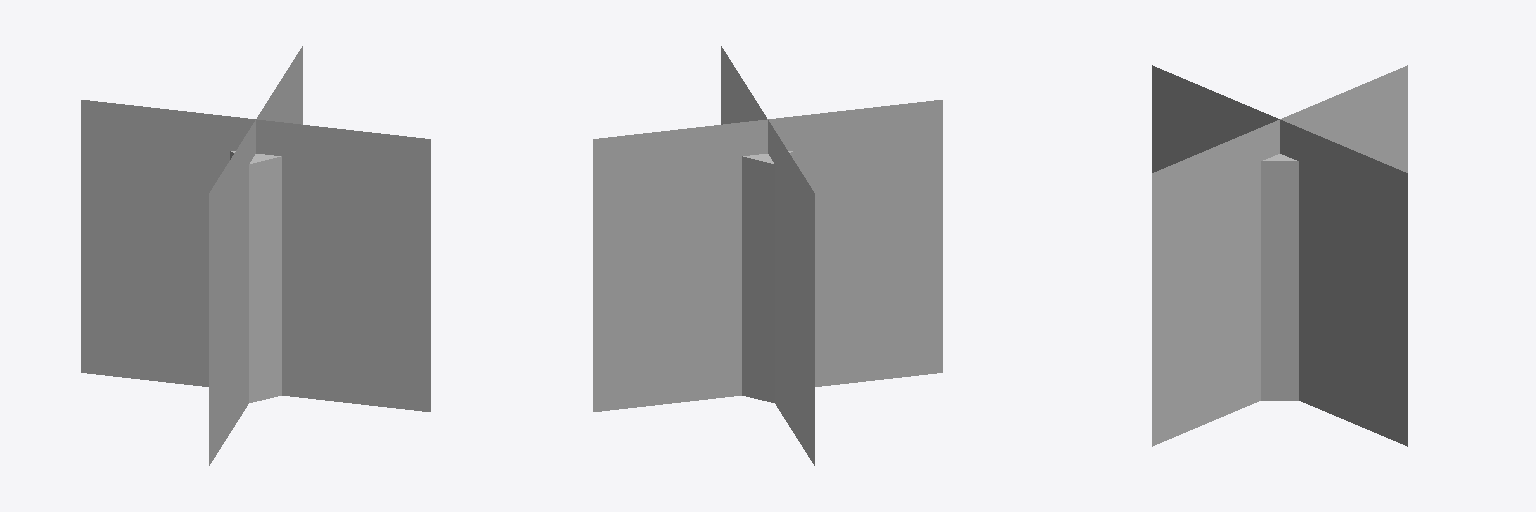
The model's file is bamboo_top.obj.
3 renders of one model, left to right at view 1: azimuth 30°, elevation 25°; view 2: azimuth 150°, elevation 25°; view 3: azimuth 270°, elevation 25°, orthographic.
Parts seen in each view (by area): view 1: Top_Cube.005; view 2: Top_Cube.005; view 3: Top_Cube.005.
Part boxes in pixels (left/top/right/bottom): Top_Cube.005: left=81, top=46, right=430, bottom=465; Top_Cube.005: left=593, top=46, right=942, bottom=465; Top_Cube.005: left=1152, top=65, right=1407, bottom=446.
Size of the model in its own units: 0.8485 by 1 by 0.8485.